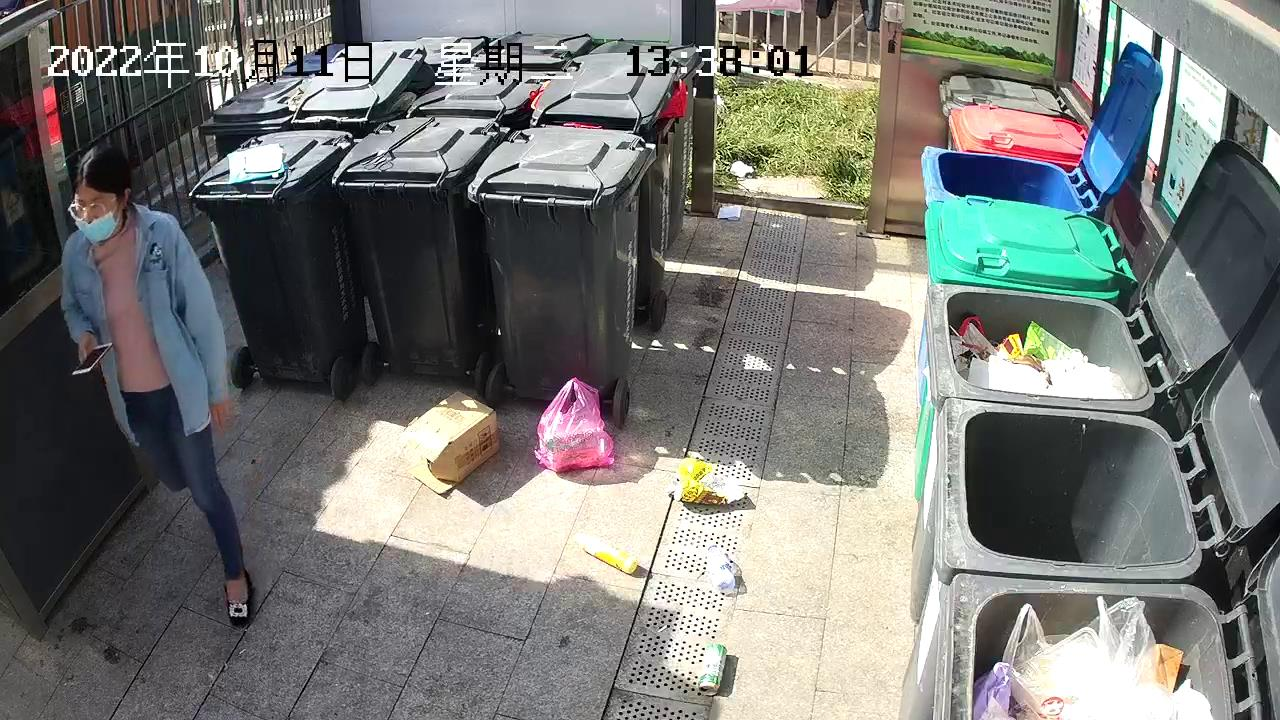garbage: (667, 455, 755, 515)
garbage-bag: (528, 373, 620, 478)
lvzhipin: (693, 638, 730, 700)
suliaozhipin: (569, 529, 643, 578), (702, 535, 741, 597)
worker: (53, 140, 263, 632)
zhizhipin: (394, 383, 510, 504)
